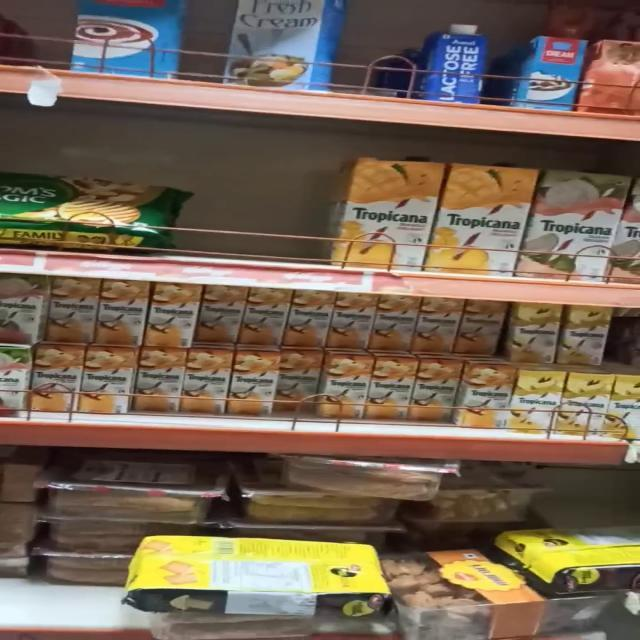Tropicana: (341, 150, 442, 264), (535, 159, 624, 280), (444, 154, 530, 272), (148, 280, 210, 348), (30, 344, 90, 412), (47, 274, 104, 344), (100, 278, 154, 350), (83, 348, 141, 410), (134, 350, 190, 412), (516, 372, 570, 435), (414, 360, 466, 425), (514, 300, 570, 359), (330, 359, 380, 424), (188, 351, 238, 412), (566, 304, 615, 363), (370, 296, 418, 356), (240, 288, 290, 345), (569, 374, 615, 434), (332, 294, 378, 354), (453, 302, 504, 356), (236, 350, 282, 409), (416, 294, 461, 354), (288, 288, 330, 352), (468, 366, 514, 424), (283, 354, 332, 408), (372, 359, 416, 419), (202, 286, 244, 346)
